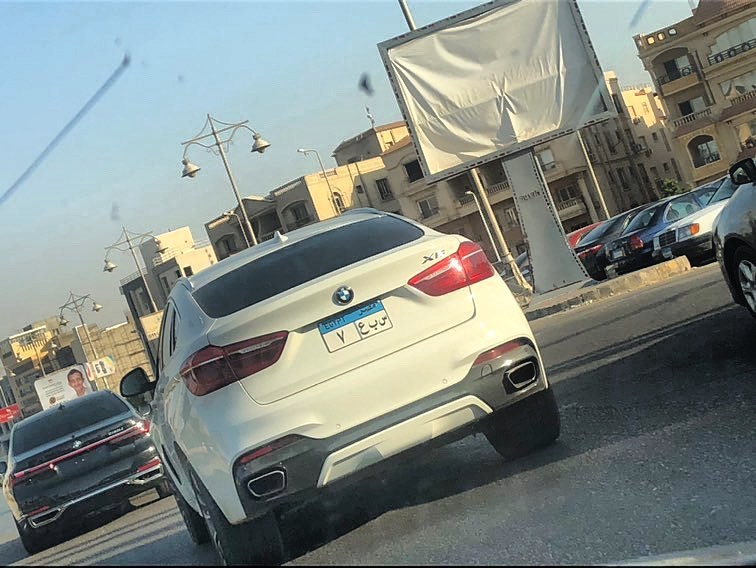carpl: (316, 308, 399, 348)
